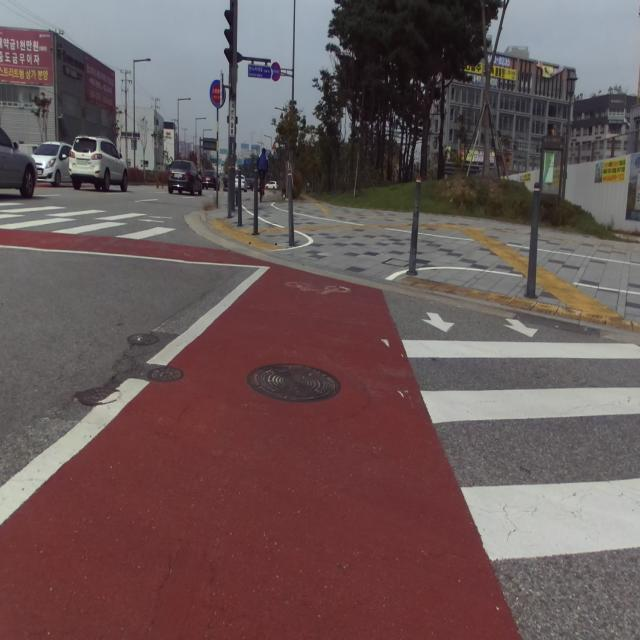횡단보도: (401, 312, 640, 561), (0, 202, 182, 254)
